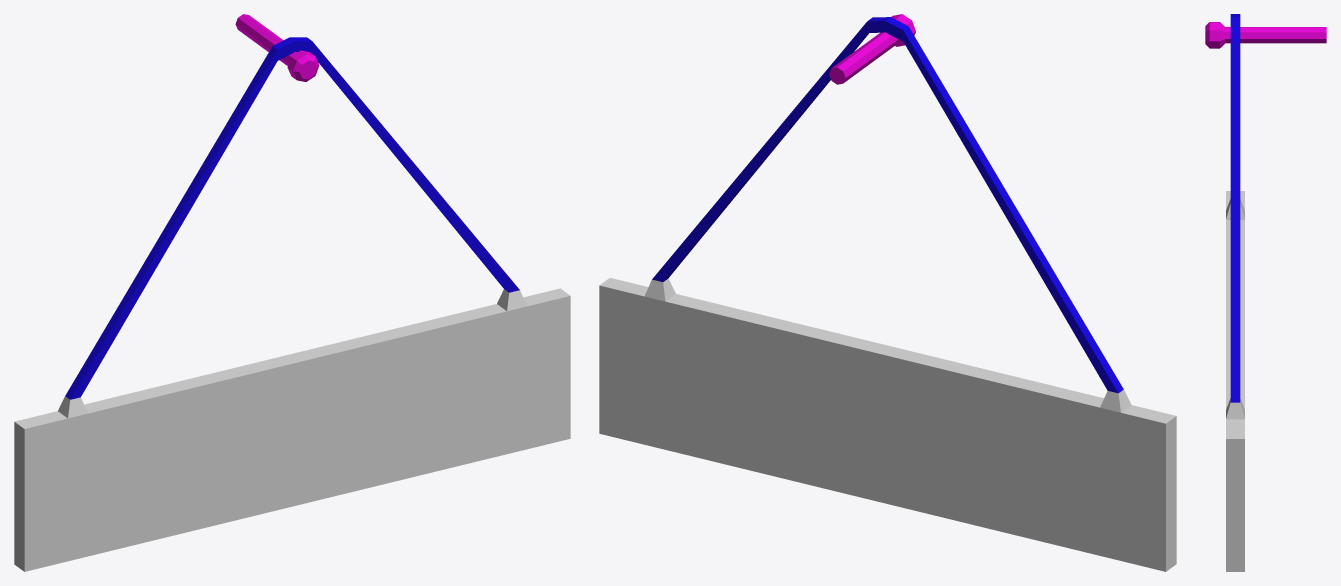
Rendered from insegna_Dolci.fbx.
The picture shows the model from 3 angles, left to right: view 1: azimuth 30°, elevation 25°; view 2: azimuth 150°, elevation 25°; view 3: azimuth 270°, elevation 25°; orthographic projection. The views are drawn at different scales.
Visible parts, largest first — view 1: Dolci; view 2: Dolci; view 3: Dolci.
Boxes of the visible parts, <box> form: Dolci: <box>14,14,570,571</box>; Dolci: <box>599,14,1176,571</box>; Dolci: <box>1205,14,1326,571</box>.
Bounding box in the file's own units: 600 × 486 × 124.
